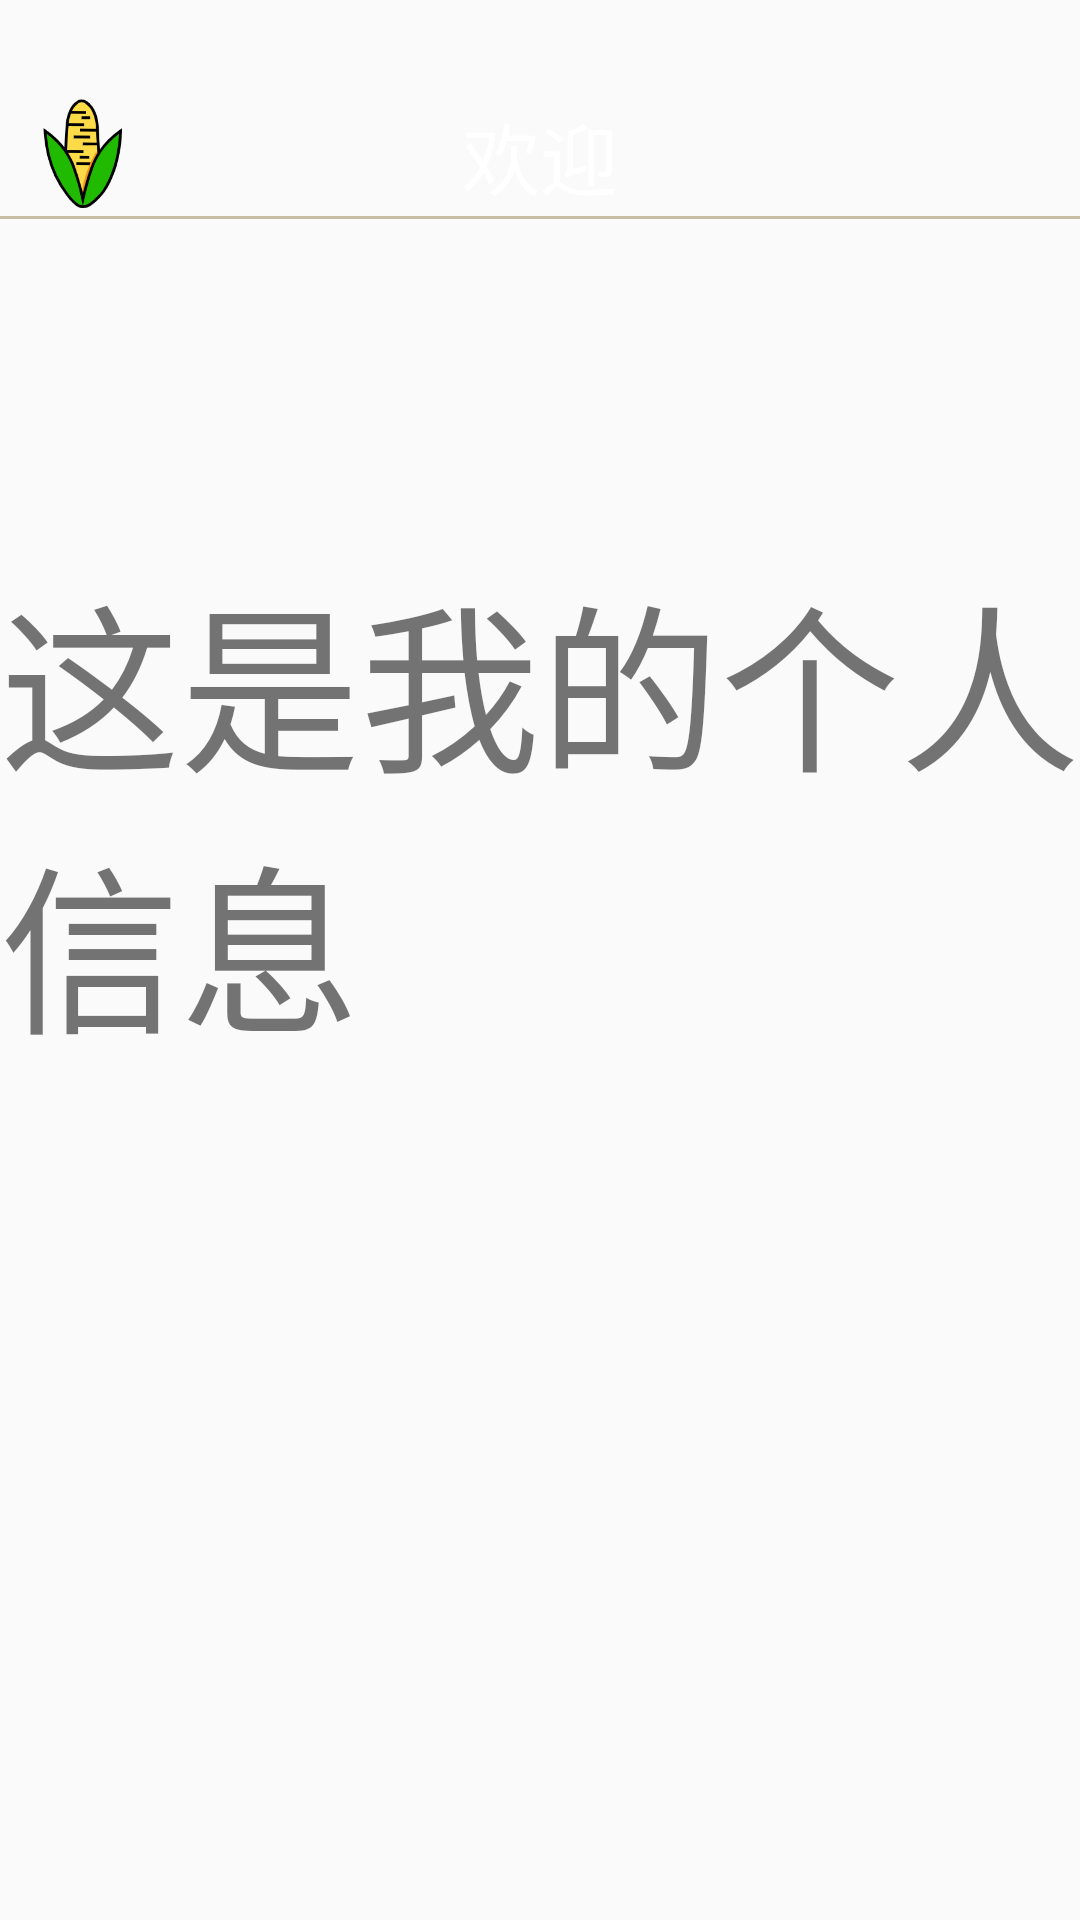

Locate icon controls on the screen. Image size 1080px x 1920px, boxes as (x1, y1, x2, y2).
yumi: (43, 99, 122, 208)
